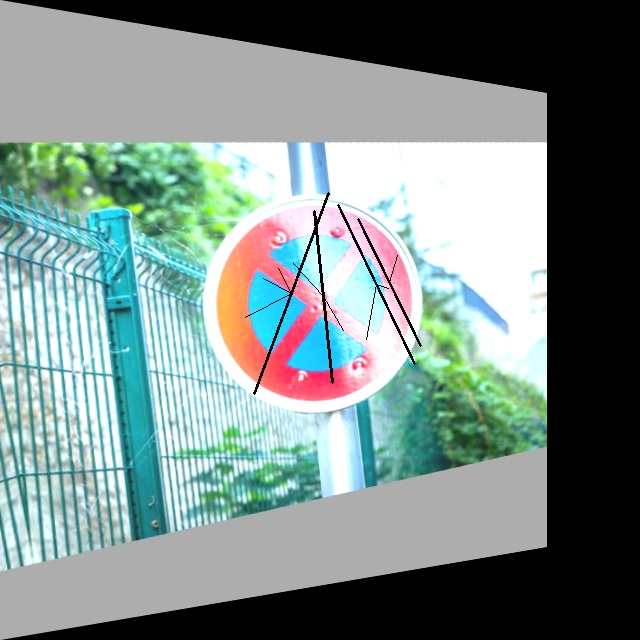No_Stopping_or_Standing: (196, 188, 431, 419)
